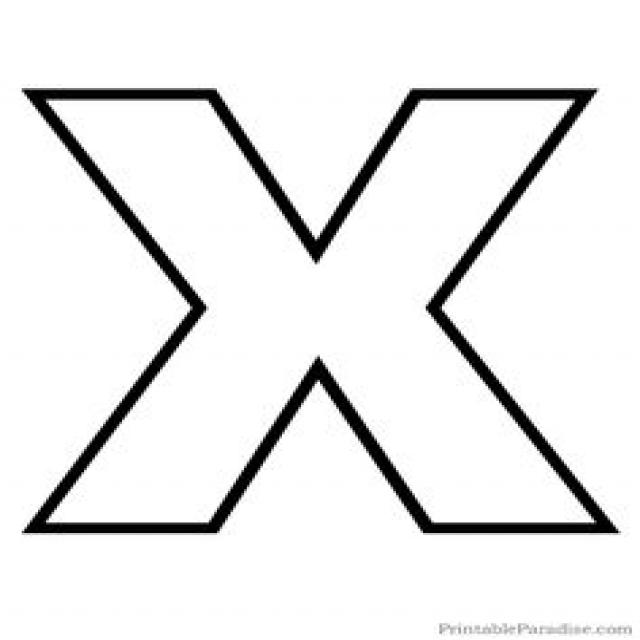X: (11, 53, 630, 590)
